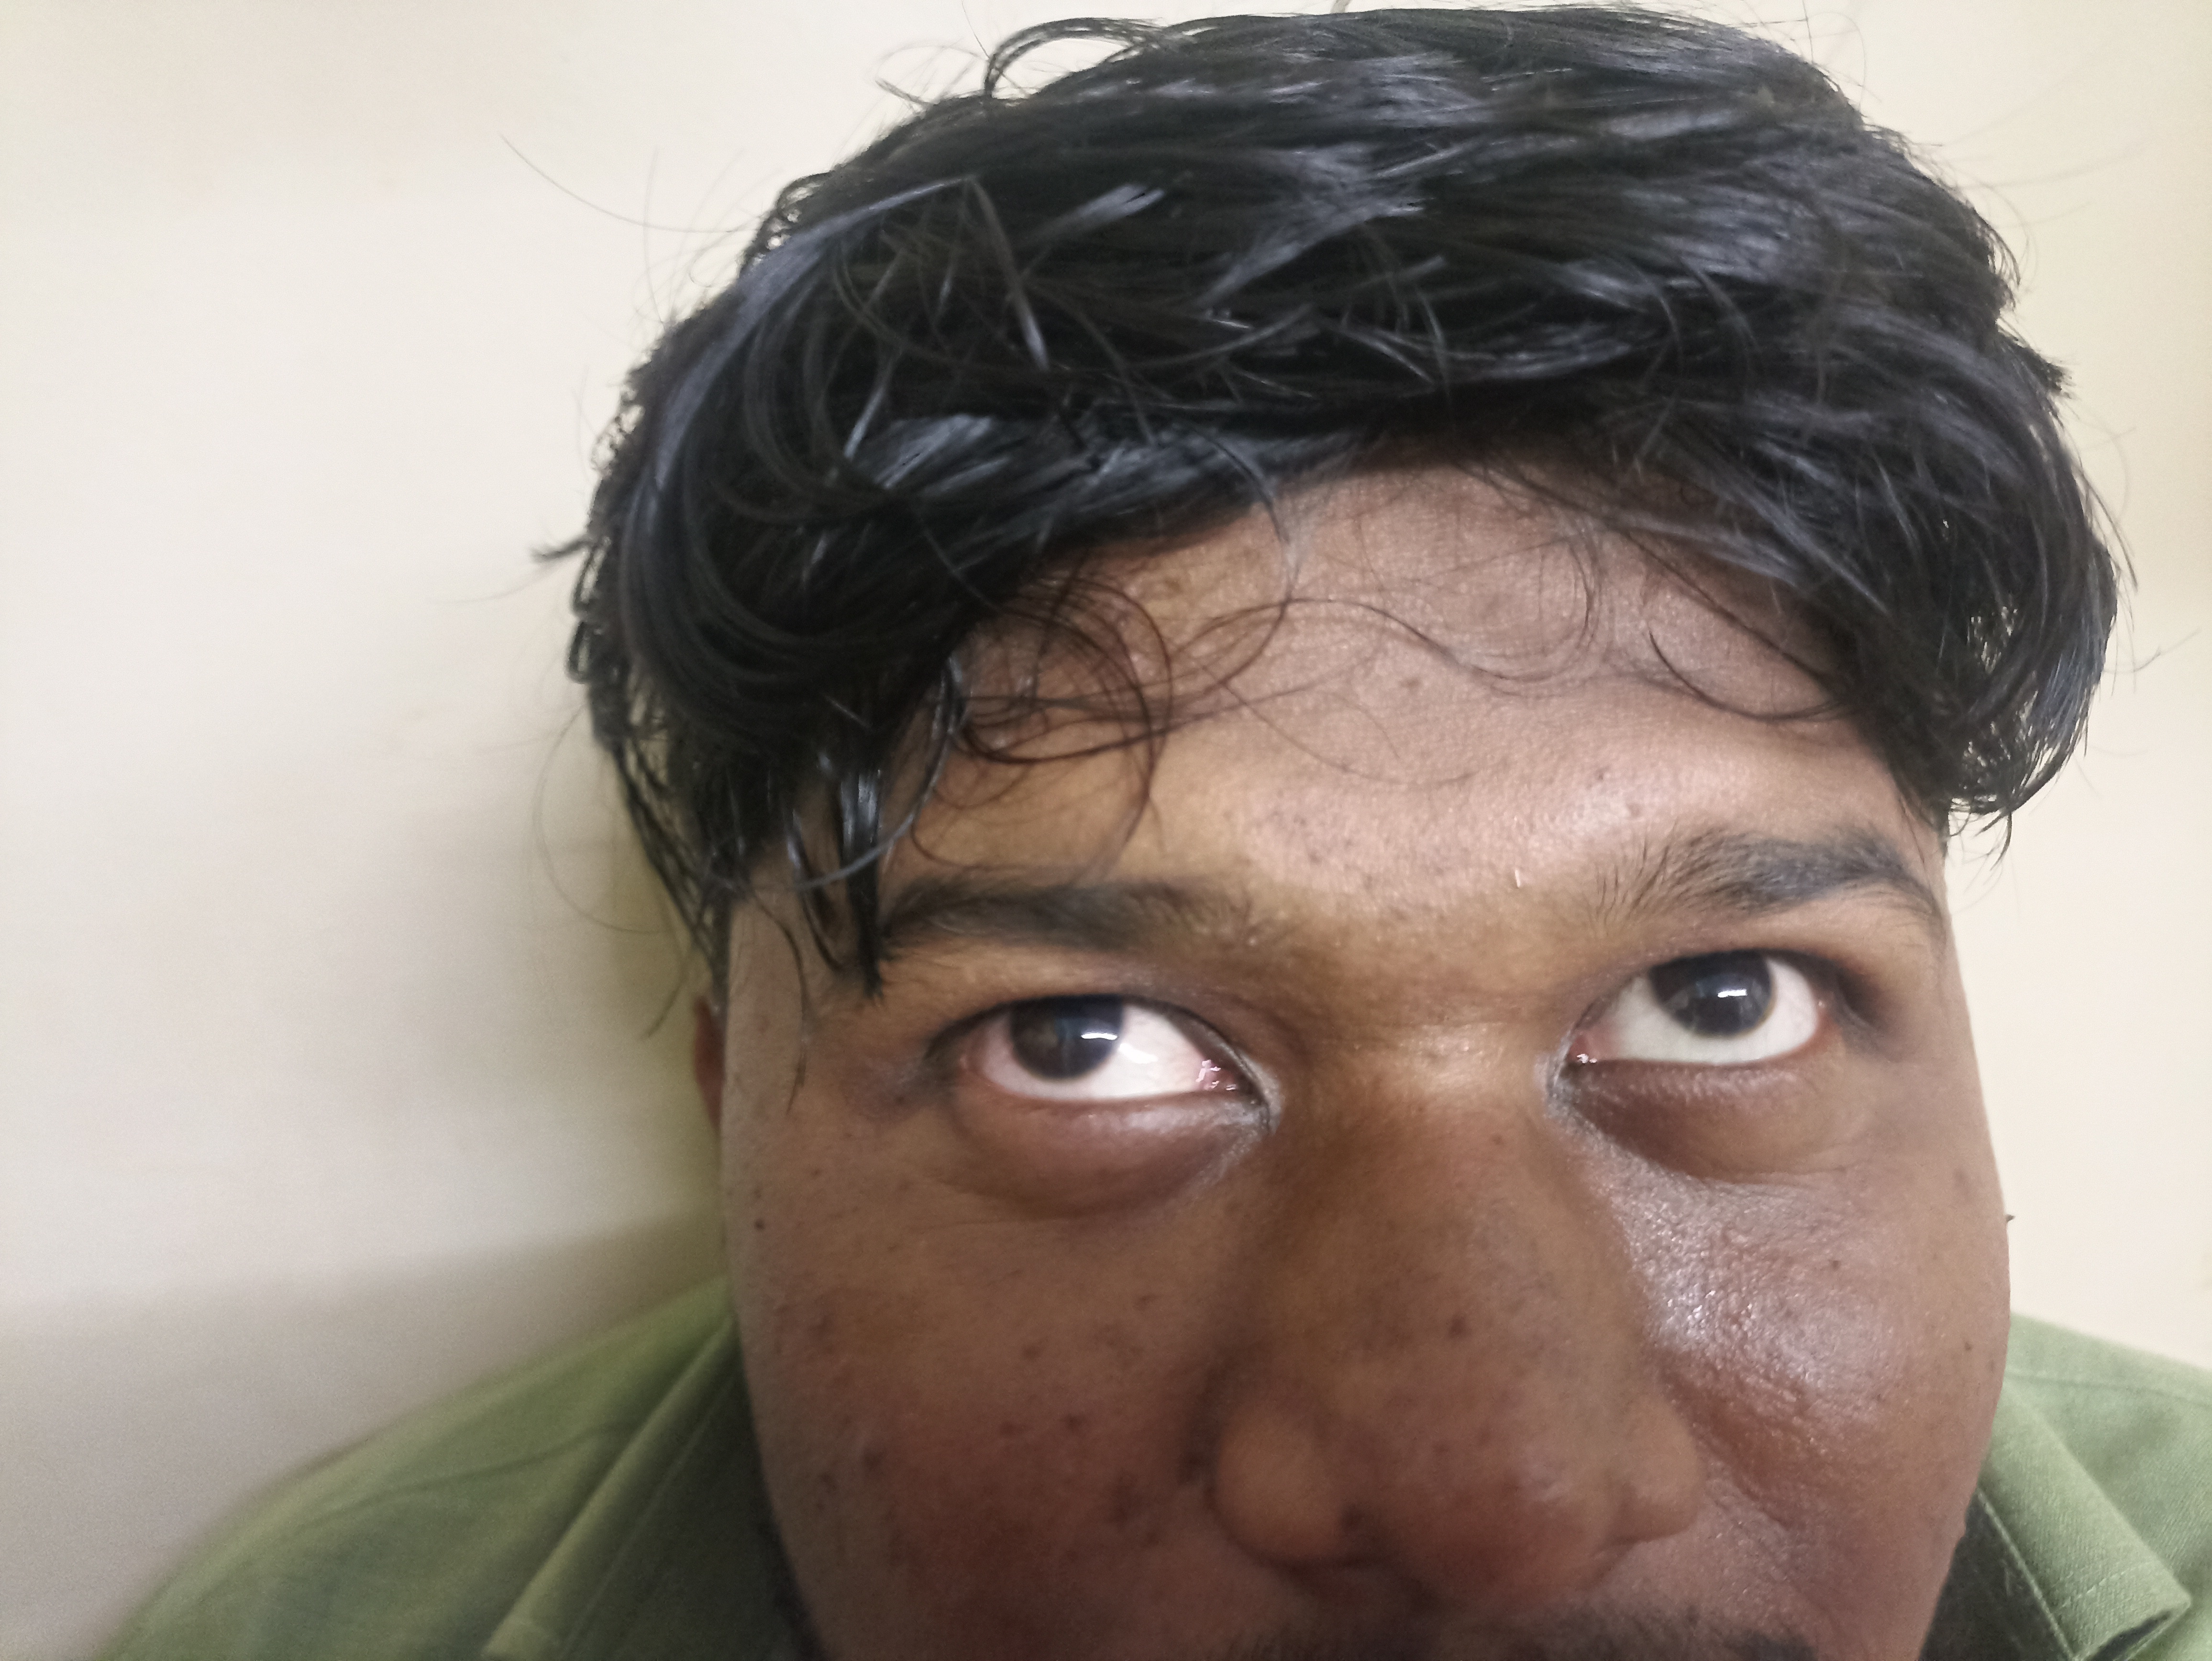EYE UP: (724, 722, 1413, 1326), (1479, 726, 2064, 1326)
